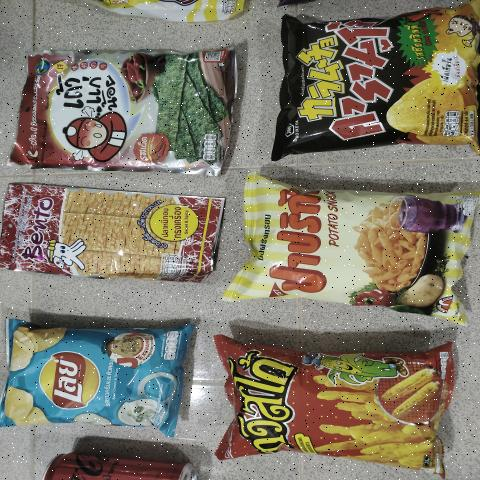bento_red: (0, 185, 210, 283)
karamujo: (280, 12, 479, 153)
lay_blue: (0, 328, 187, 430)
paprika: (232, 176, 466, 317)
taokaenoi: (22, 51, 220, 175)
twisco: (227, 346, 442, 470)
